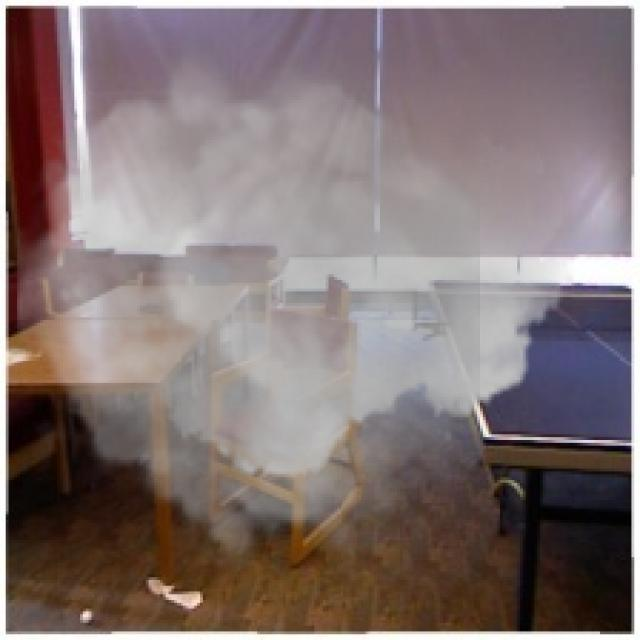Smoke: (17, 34, 574, 577)
